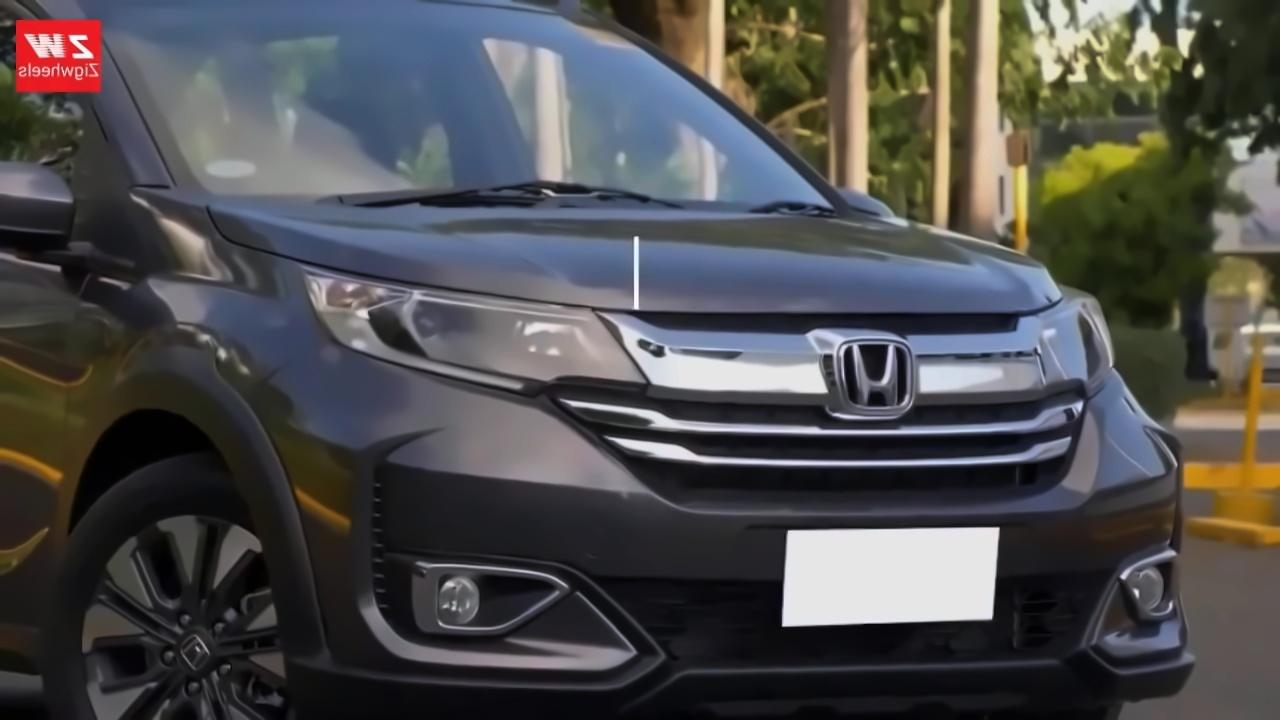Car hood: (203, 197, 1064, 318)
Fender - -F-R-: (52, 169, 319, 515)
Front bumper: (249, 332, 1204, 720)
Headlight - -L-: (1032, 283, 1118, 404)
Headlight - -R-: (296, 267, 648, 397)
Side mirror - -R-: (0, 157, 103, 277)
